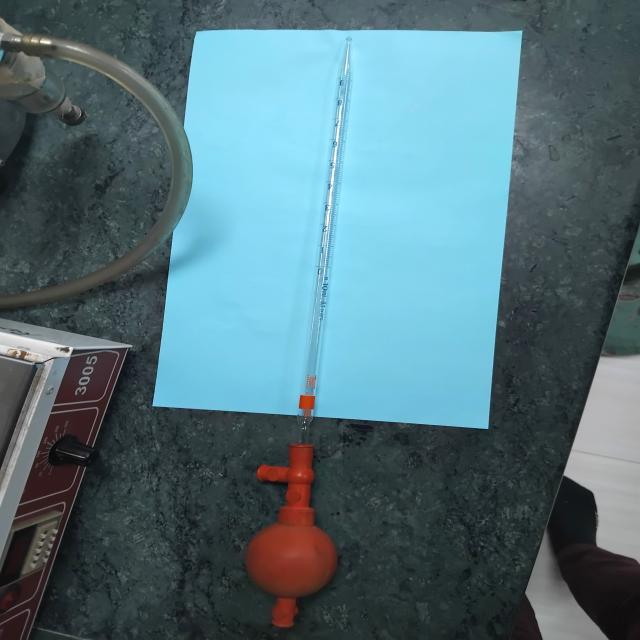Volumetric_Pipet: (231, 25, 375, 632)
